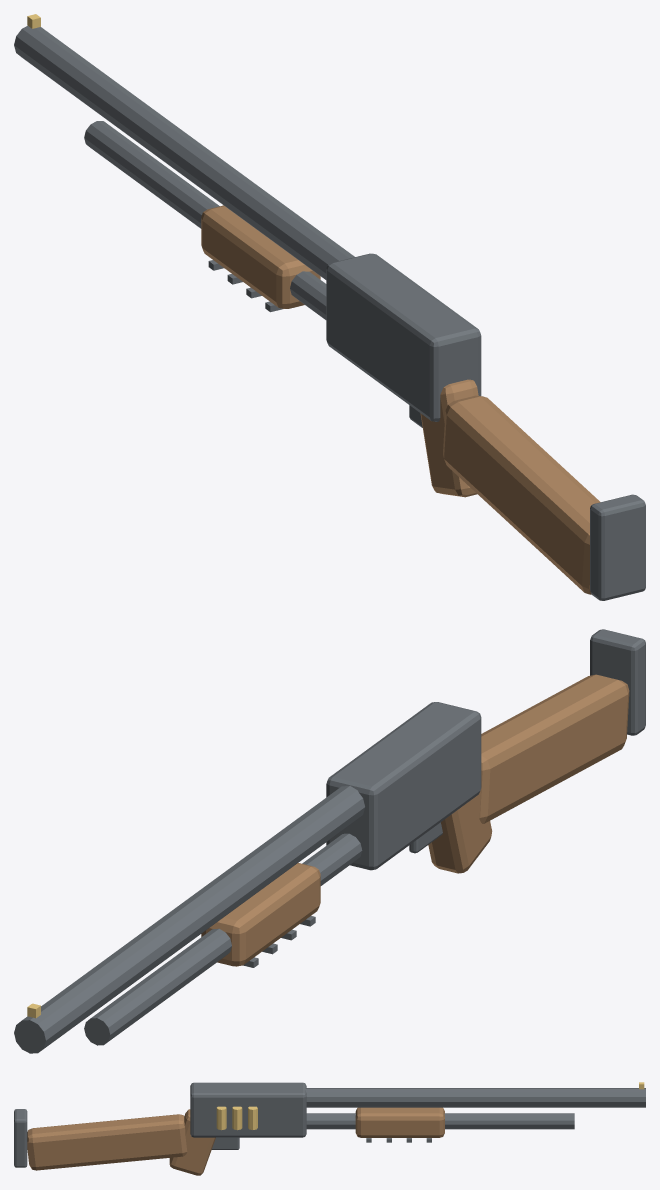
The model's file is shotgun.glb.
The picture shows the model from 3 angles, top to bottom: view 1: azimuth 30°, elevation 25°; view 2: azimuth 150°, elevation 25°; view 3: azimuth 270°, elevation 25°; orthographic projection. The views are drawn at different scales.
Visible parts, largest first — view 1: Receiver, Stock, Barrel, Pump, MagTube, ButtPad, Grip; view 2: Receiver, Barrel, Stock, MagTube, Pump, ButtPad, Grip; view 3: Stock, Barrel, Receiver, MagTube, Pump, Grip, ButtPad, TriggerGuard, Shell0, Shell1, Shell2.
Part boxes in pixels (left/top/right/bottom): Receiver: left=326, top=253, right=481, bottom=421; Stock: left=443, top=395, right=600, bottom=594; Barrel: left=14, top=25, right=354, bottom=279; Pump: left=201, top=205, right=320, bottom=308; MagTube: left=84, top=121, right=326, bottom=319; ButtPad: left=590, top=494, right=645, bottom=600; Grip: left=420, top=379, right=478, bottom=497; Receiver: left=326, top=702, right=481, bottom=870; Barrel: left=14, top=786, right=364, bottom=1053; Stock: left=479, top=674, right=629, bottom=823; MagTube: left=84, top=833, right=362, bottom=1045; Pump: left=201, top=863, right=320, bottom=966; ButtPad: left=590, top=629, right=645, bottom=735; Grip: left=428, top=790, right=492, bottom=873; Stock: left=27, top=1114, right=187, bottom=1170; Barrel: left=305, top=1088, right=645, bottom=1107; Receiver: left=190, top=1082, right=306, bottom=1137; MagTube: left=306, top=1113, right=574, bottom=1129; Pump: left=355, top=1107, right=444, bottom=1137; Grip: left=169, top=1109, right=215, bottom=1175; ButtPad: left=14, top=1109, right=27, bottom=1167; TriggerGuard: left=211, top=1137, right=239, bottom=1149; Shell0: left=216, top=1106, right=226, bottom=1130; Shell1: left=232, top=1106, right=242, bottom=1130; Shell2: left=248, top=1106, right=257, bottom=1129.
Bounding box in the file's own units: 0.088 × 0.2216 × 1.41.
